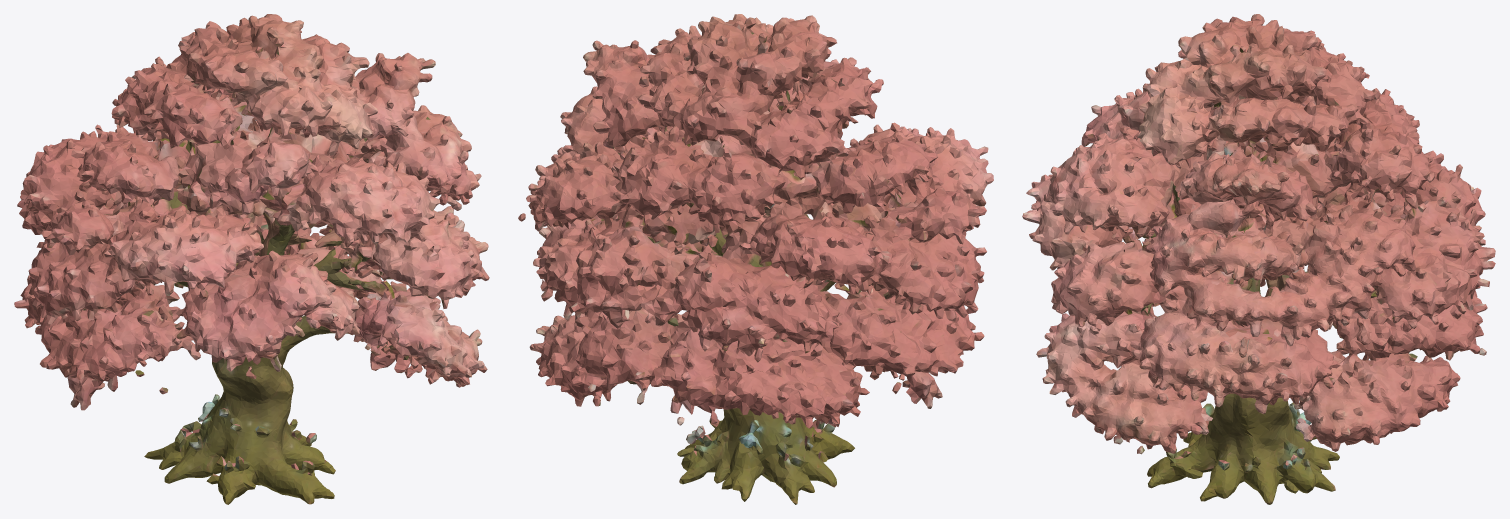
Rendered from prop-tree_blossom.glb.
3 views of the same model, side by side, from view 1: azimuth 30°, elevation 25°; view 2: azimuth 150°, elevation 25°; view 3: azimuth 270°, elevation 25° (orthographic).
Parts seen in each view (by area): view 1: geometry_0; view 2: geometry_0; view 3: geometry_0.
Boxes of the visible parts, x1=… form: geometry_0: x1=14, y1=14, x2=489, y2=504; geometry_0: x1=518, y1=14, x2=993, y2=504; geometry_0: x1=1022, y1=14, x2=1495, y2=504.
Bounding box in the file's own units: 2.01 × 1.99 × 1.94.
Materials: 1 (1 with a texture image).
